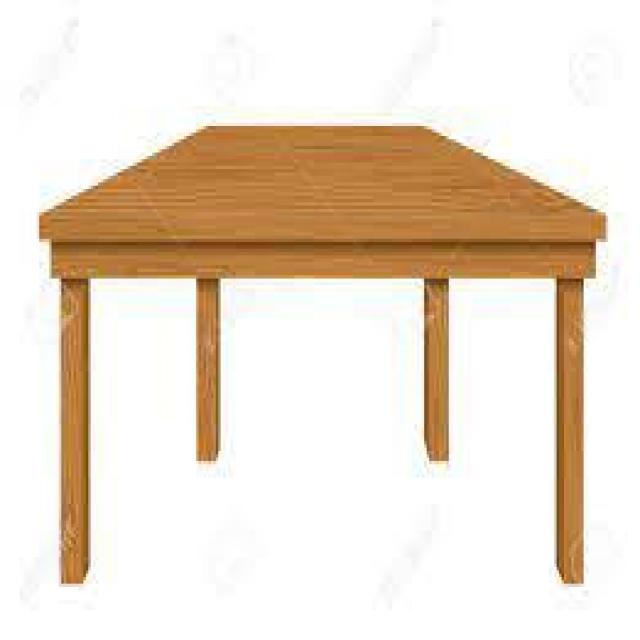table: (20, 45, 613, 615)
